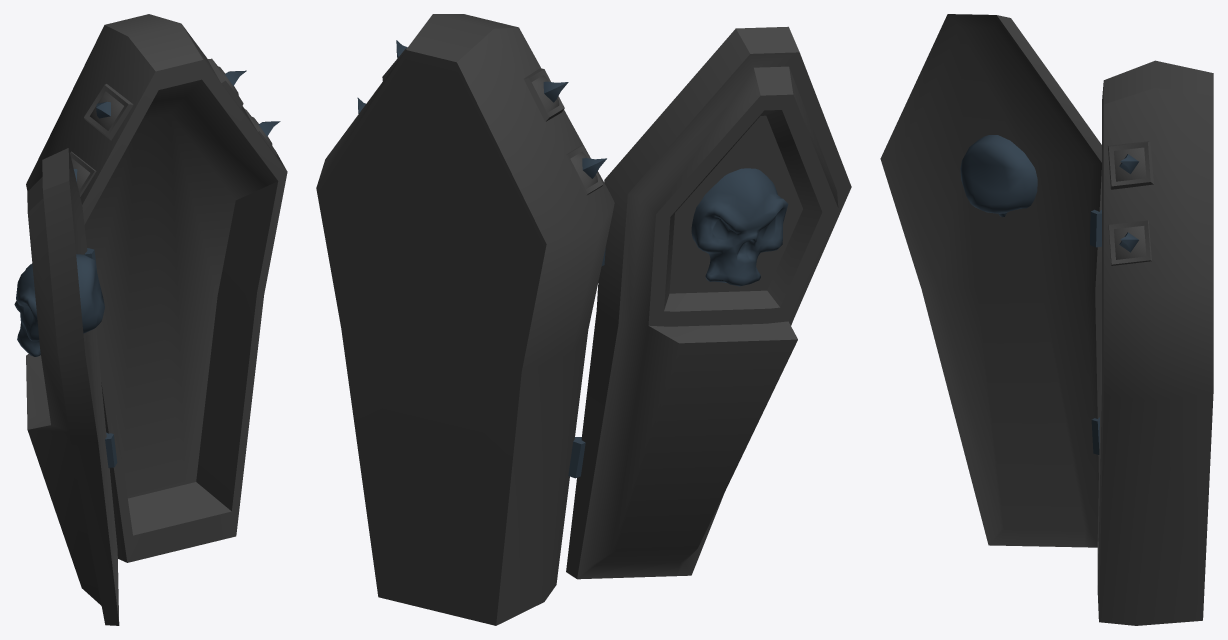
The model's file is CH_CE_prop_Sarcophagus_Open_Hell.FBX.
3 renders of one model, left to right at view 1: azimuth 30°, elevation 25°; view 2: azimuth 150°, elevation 25°; view 3: azimuth 270°, elevation 25°, orthographic. The views are drawn at different scales.
Visible parts, largest first — view 1: CH_CE_prop_Sarcophagus_Open_Hell; view 2: CH_CE_prop_Sarcophagus_Open_Hell; view 3: CH_CE_prop_Sarcophagus_Open_Hell.
Boxes of the visible parts, x1,y1,x2,y2 form: CH_CE_prop_Sarcophagus_Open_Hell: (14, 14, 287, 625); CH_CE_prop_Sarcophagus_Open_Hell: (316, 14, 851, 625); CH_CE_prop_Sarcophagus_Open_Hell: (880, 14, 1213, 625).
Bounding box in the file's own units: 179 × 255 × 145.
